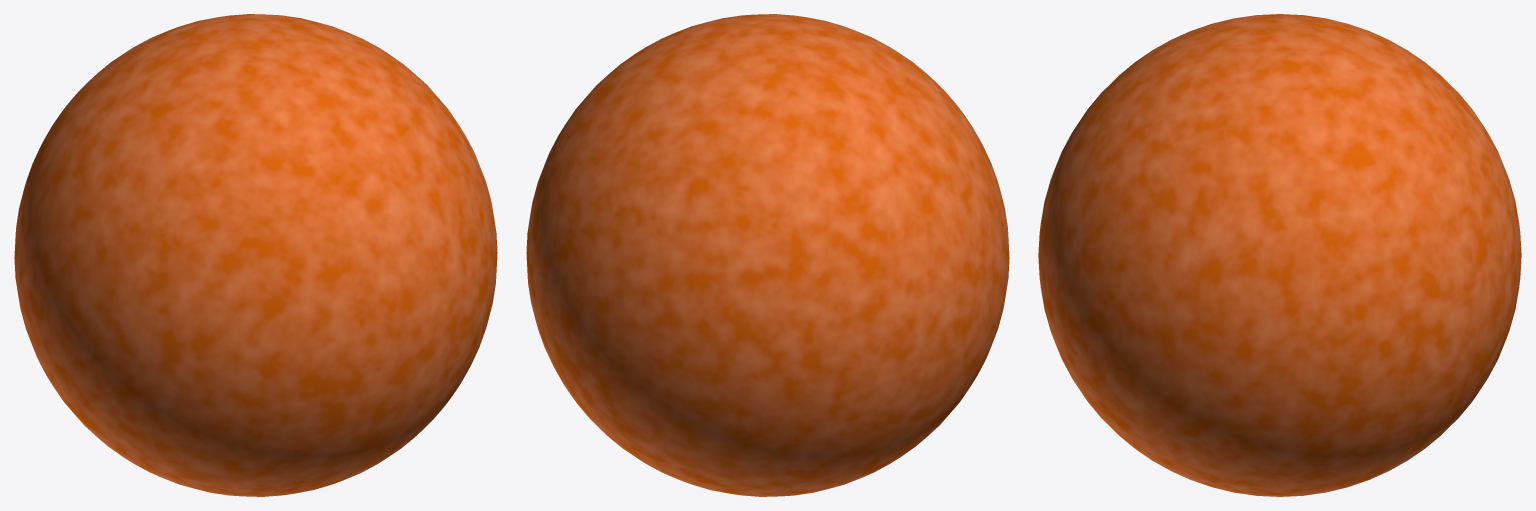
The model's file is PlanetBox 5.fbx.
3 views of the same model, side by side, from view 1: azimuth 30°, elevation 25°; view 2: azimuth 150°, elevation 25°; view 3: azimuth 270°, elevation 25° (orthographic).
Visible parts, largest first — view 1: Cube; view 2: Cube; view 3: Cube.
Part boxes in pixels (x1,y1,x2,y2): Cube: [14, 14, 497, 496]; Cube: [526, 14, 1009, 496]; Cube: [1038, 14, 1521, 496].
Size of the model in its own units: 171 by 171 by 171.
